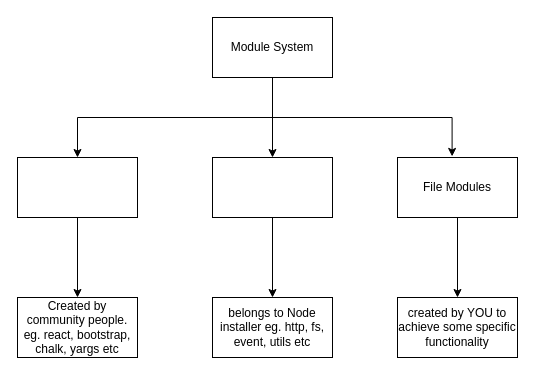
The diagram is 535 pixels wide and 375 high, and some of its shapes have lost their labels. Each missing label, with the centre of its shape:
"External Modules" belongs at point (77, 187).
"Native Modules" belongs at point (272, 187).
